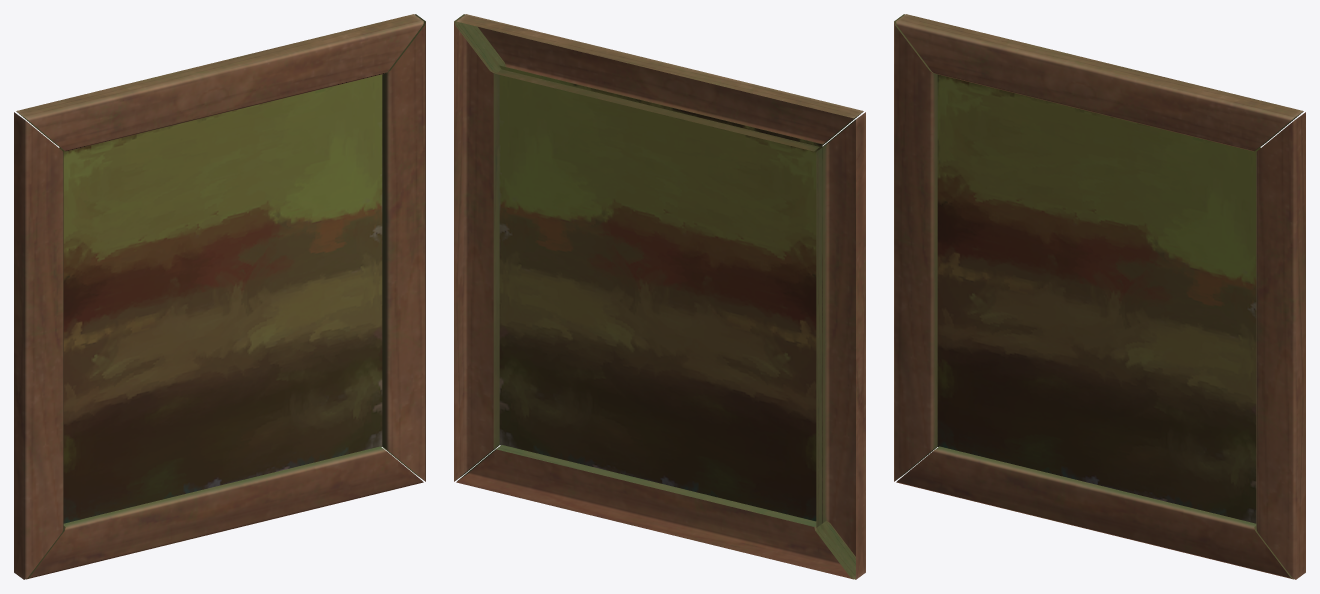
File: SM_Frames_03.fbx
3 renders of one model, left to right at view 1: azimuth 30°, elevation 25°; view 2: azimuth 150°, elevation 25°; view 3: azimuth 330°, elevation 25°, orthographic.
Parts seen in each view (by area): view 1: SM_Frames_03_LOD0; view 2: SM_Frames_03_LOD0; view 3: SM_Frames_03_LOD0.
Part boxes in pixels (x1,y1,x2,y2): SM_Frames_03_LOD0: [14, 14, 425, 579]; SM_Frames_03_LOD0: [454, 14, 865, 579]; SM_Frames_03_LOD0: [894, 14, 1305, 579].
Size of the model in its own units: 36.84 by 2 by 40.39.
1 material, 1 textured.
